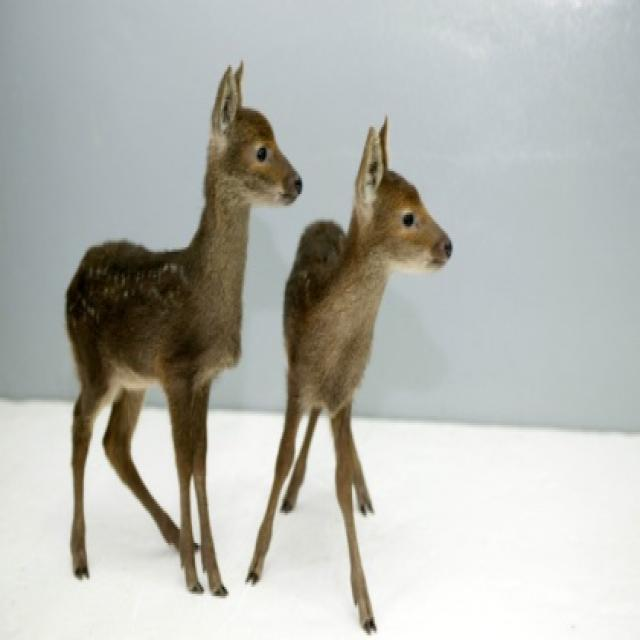elk: (69, 37, 305, 608), (286, 100, 458, 632)
